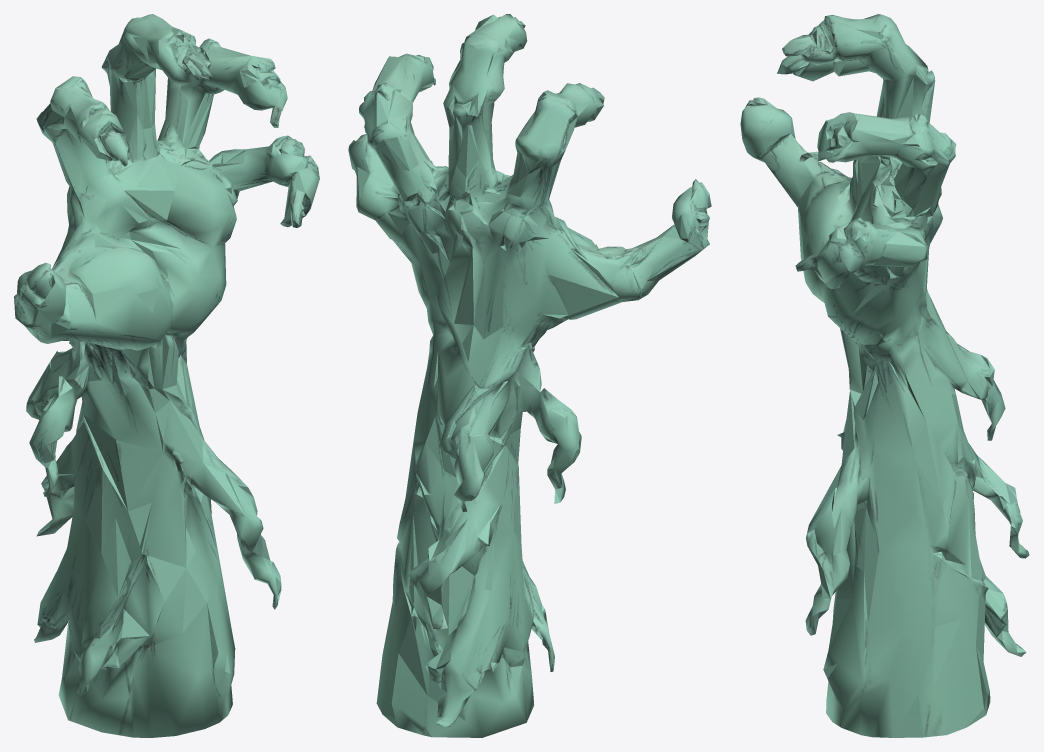
File: hand.fbx
3 views of the same model, side by side, from view 1: azimuth 30°, elevation 25°; view 2: azimuth 150°, elevation 25°; view 3: azimuth 270°, elevation 25° (orthographic). The views are drawn at different scales.
Parts seen in each view (by area): view 1: Mesh_0; view 2: Mesh_0; view 3: Mesh_0.
Part boxes in pixels (x1=…): Mesh_0: x1=14, y1=14, x2=319, y2=737; Mesh_0: x1=348, y1=14, x2=711, y2=737; Mesh_0: x1=740, y1=14, x2=1029, y2=737.
Size of the model in its own units: 95.14 by 190 by 72.82.
1 material, 1 textured.
